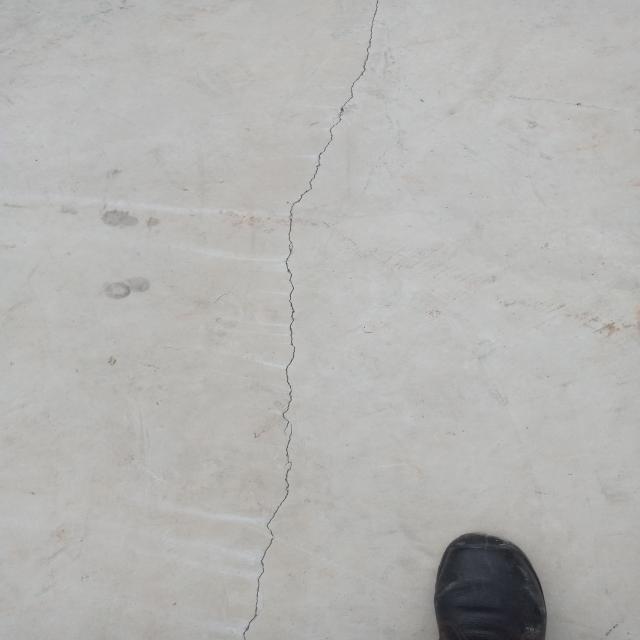Crack: (242, 8, 374, 634)
